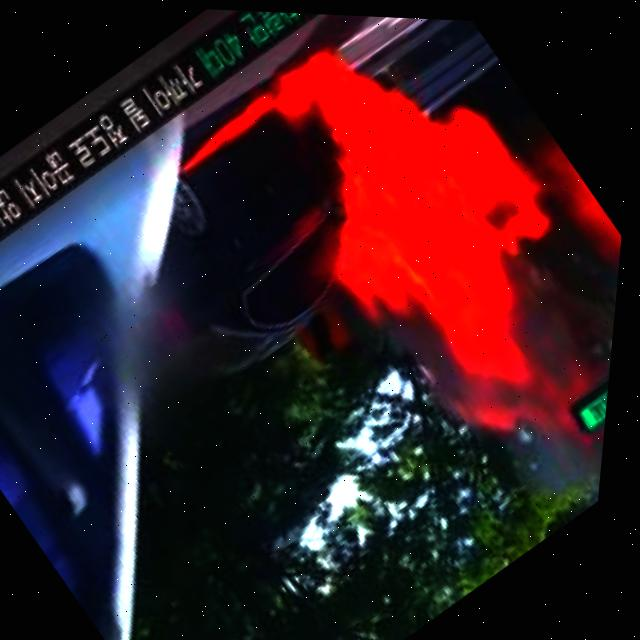Fire: (153, 7, 640, 513)
